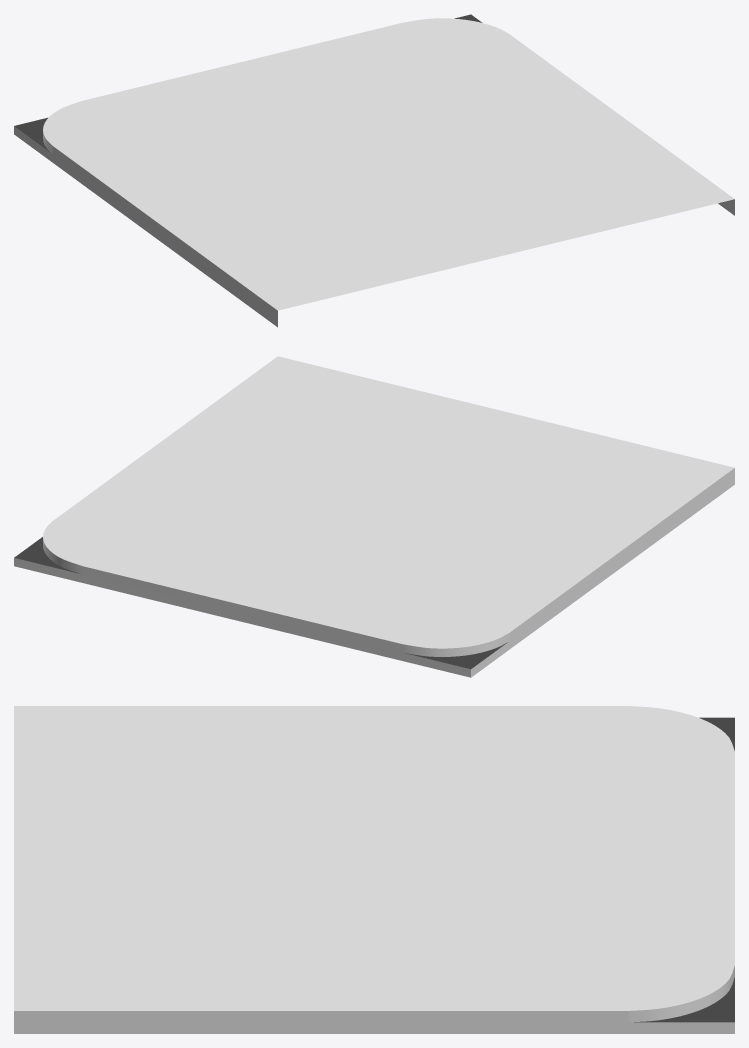
The model's file is pavement intersection dual edge.fbx.
The picture shows the model from 3 angles, top to bottom: view 1: azimuth 30°, elevation 25°; view 2: azimuth 150°, elevation 25°; view 3: azimuth 270°, elevation 25°; orthographic projection. The views are drawn at different scales.
Visible parts, largest first — view 1: pavement_intersection_dual_edge; view 2: pavement_intersection_dual_edge; view 3: pavement_intersection_dual_edge.
Boxes of the visible parts, bbox=[...] form: pavement_intersection_dual_edge: bbox=[14, 14, 734, 327]; pavement_intersection_dual_edge: bbox=[14, 356, 734, 677]; pavement_intersection_dual_edge: bbox=[14, 706, 734, 1033].
Size of the model in its own units: 1000 by 35.23 by 1000.
